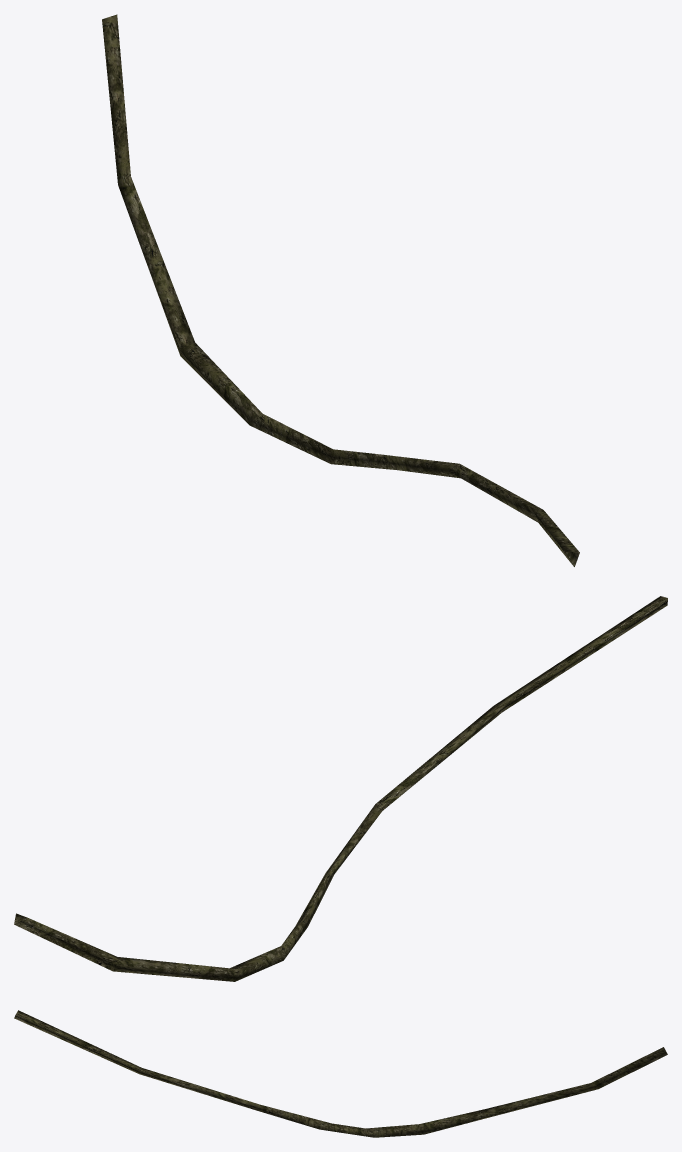
Rendered from MEP_Liana_02.fbx.
The picture shows the model from 3 angles, top to bottom: view 1: azimuth 30°, elevation 25°; view 2: azimuth 150°, elevation 25°; view 3: azimuth 270°, elevation 25°; orthographic projection. The views are drawn at different scales.
Parts seen in each view (by area): view 1: MEP_Liana_02; view 2: MEP_Liana_02; view 3: MEP_Liana_02.
Boxes of the visible parts, x1=… form: MEP_Liana_02: x1=102, y1=14, x2=579, y2=566; MEP_Liana_02: x1=14, y1=596, x2=667, y2=981; MEP_Liana_02: x1=14, y1=1010, x2=667, y2=1137.
Size of the model in its own units: 1.17 by 1.22 by 6.72.
